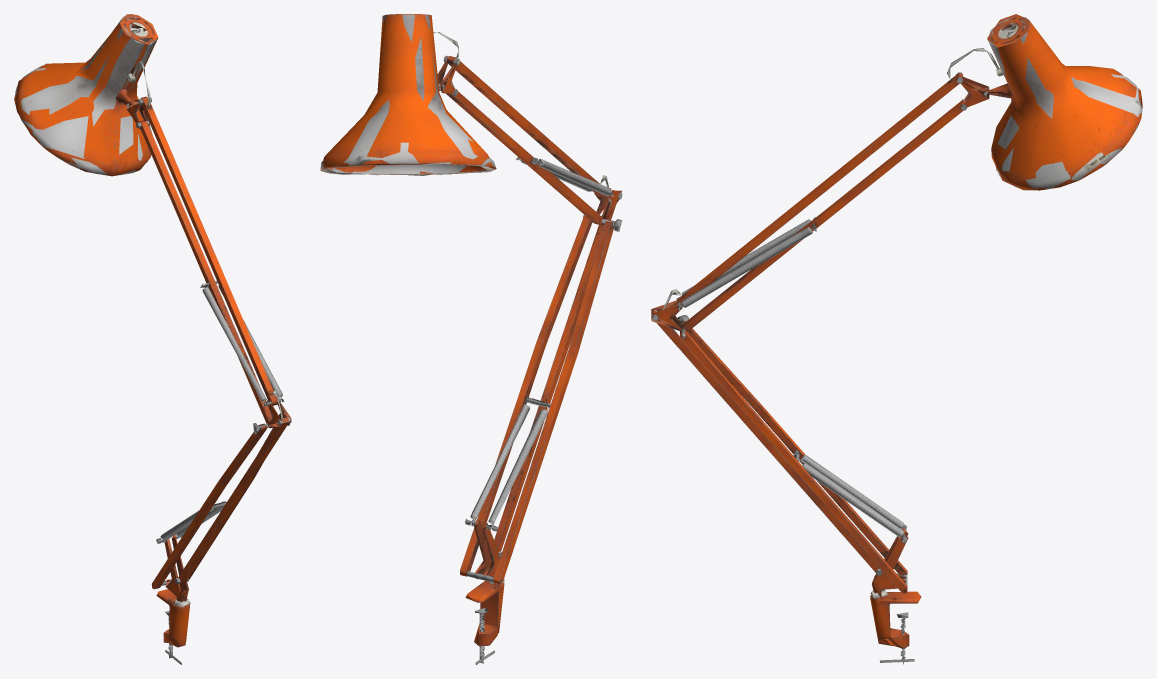
Rendered from desk_lamp_arm_01.lod1.glb.
The picture shows the model from 3 angles, left to right: view 1: azimuth 30°, elevation 25°; view 2: azimuth 150°, elevation 25°; view 3: azimuth 270°, elevation 25°; orthographic projection. The views are drawn at different scales.
Visible parts, largest first — view 1: desk_lamp_arm_01; view 2: desk_lamp_arm_01; view 3: desk_lamp_arm_01.
Boxes of the visible parts, bbox=[...] form: desk_lamp_arm_01: bbox=[14, 14, 291, 664]; desk_lamp_arm_01: bbox=[320, 14, 622, 664]; desk_lamp_arm_01: bbox=[651, 14, 1142, 664].
Size of the model in its own units: 0.1989 by 0.892 by 0.6102.
2 materials, 2 textured.
